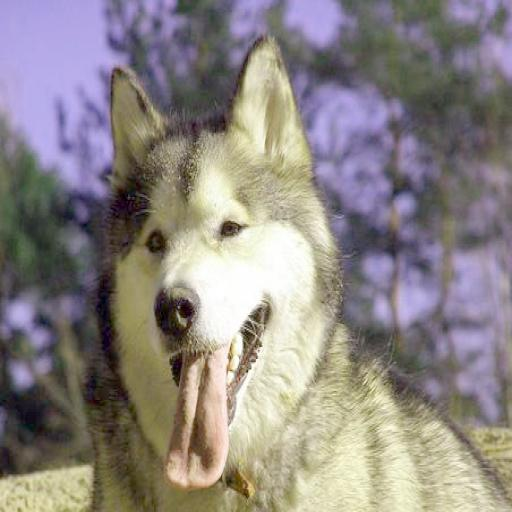dog_face: (97, 48, 338, 470)
